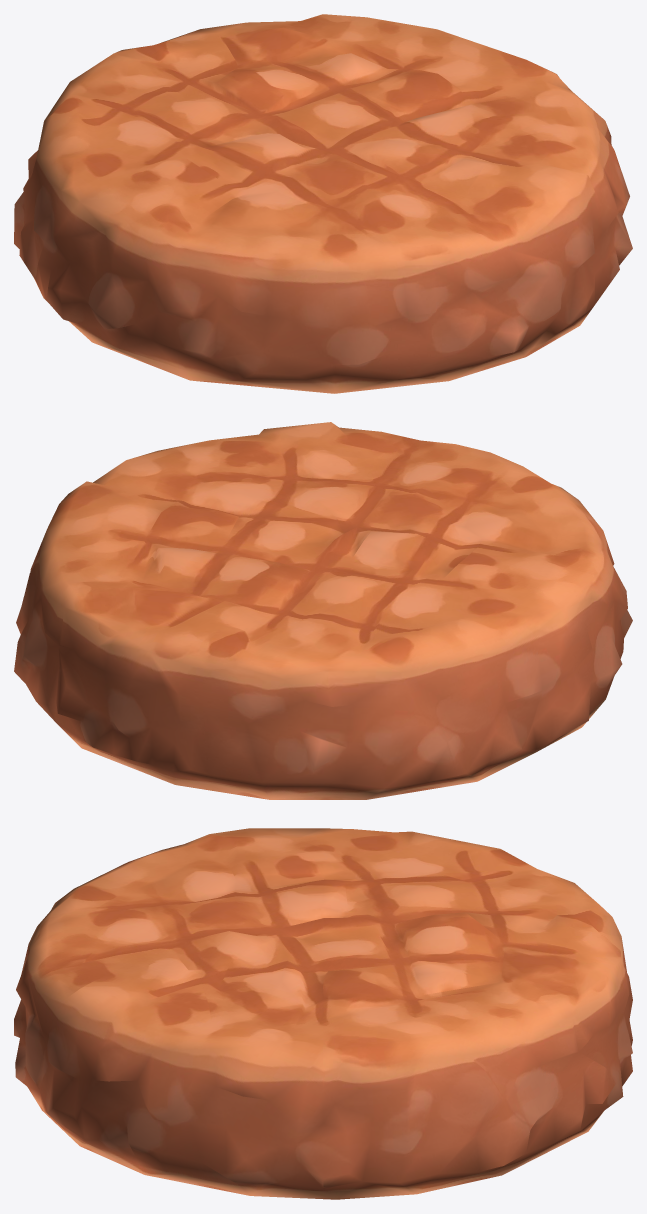
The model's file is MeatPattyCooked.fbx.
3 views of the same model, one above another, from view 1: azimuth 30°, elevation 25°; view 2: azimuth 150°, elevation 25°; view 3: azimuth 270°, elevation 25° (orthographic).
Visible parts, largest first — view 1: tripo_node_6c4c3bbb; view 2: tripo_node_6c4c3bbb; view 3: tripo_node_6c4c3bbb.
Boxes of the visible parts, x1,y1,x2,y2 form: tripo_node_6c4c3bbb: (14,14,632,393); tripo_node_6c4c3bbb: (14,422,632,799); tripo_node_6c4c3bbb: (14,828,632,1199).
Size of the model in its own units: 0.9998 by 0.273 by 1.
Materials: 1 (1 with a texture image).
